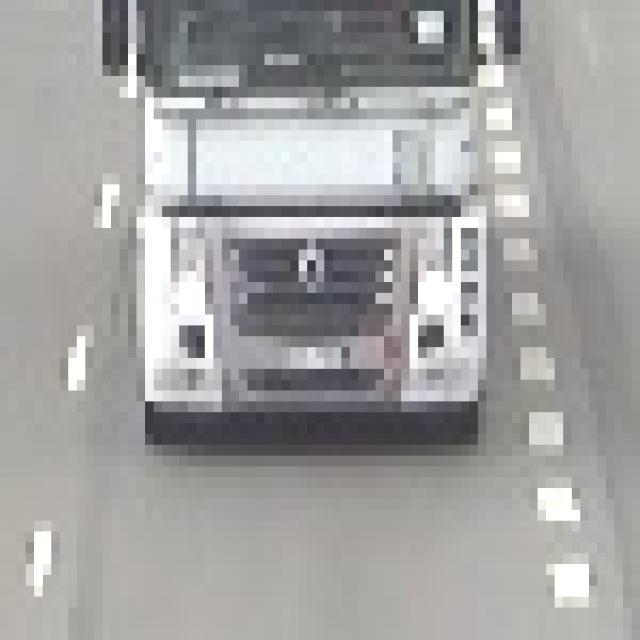TRUCK: (101, 1, 508, 441)
